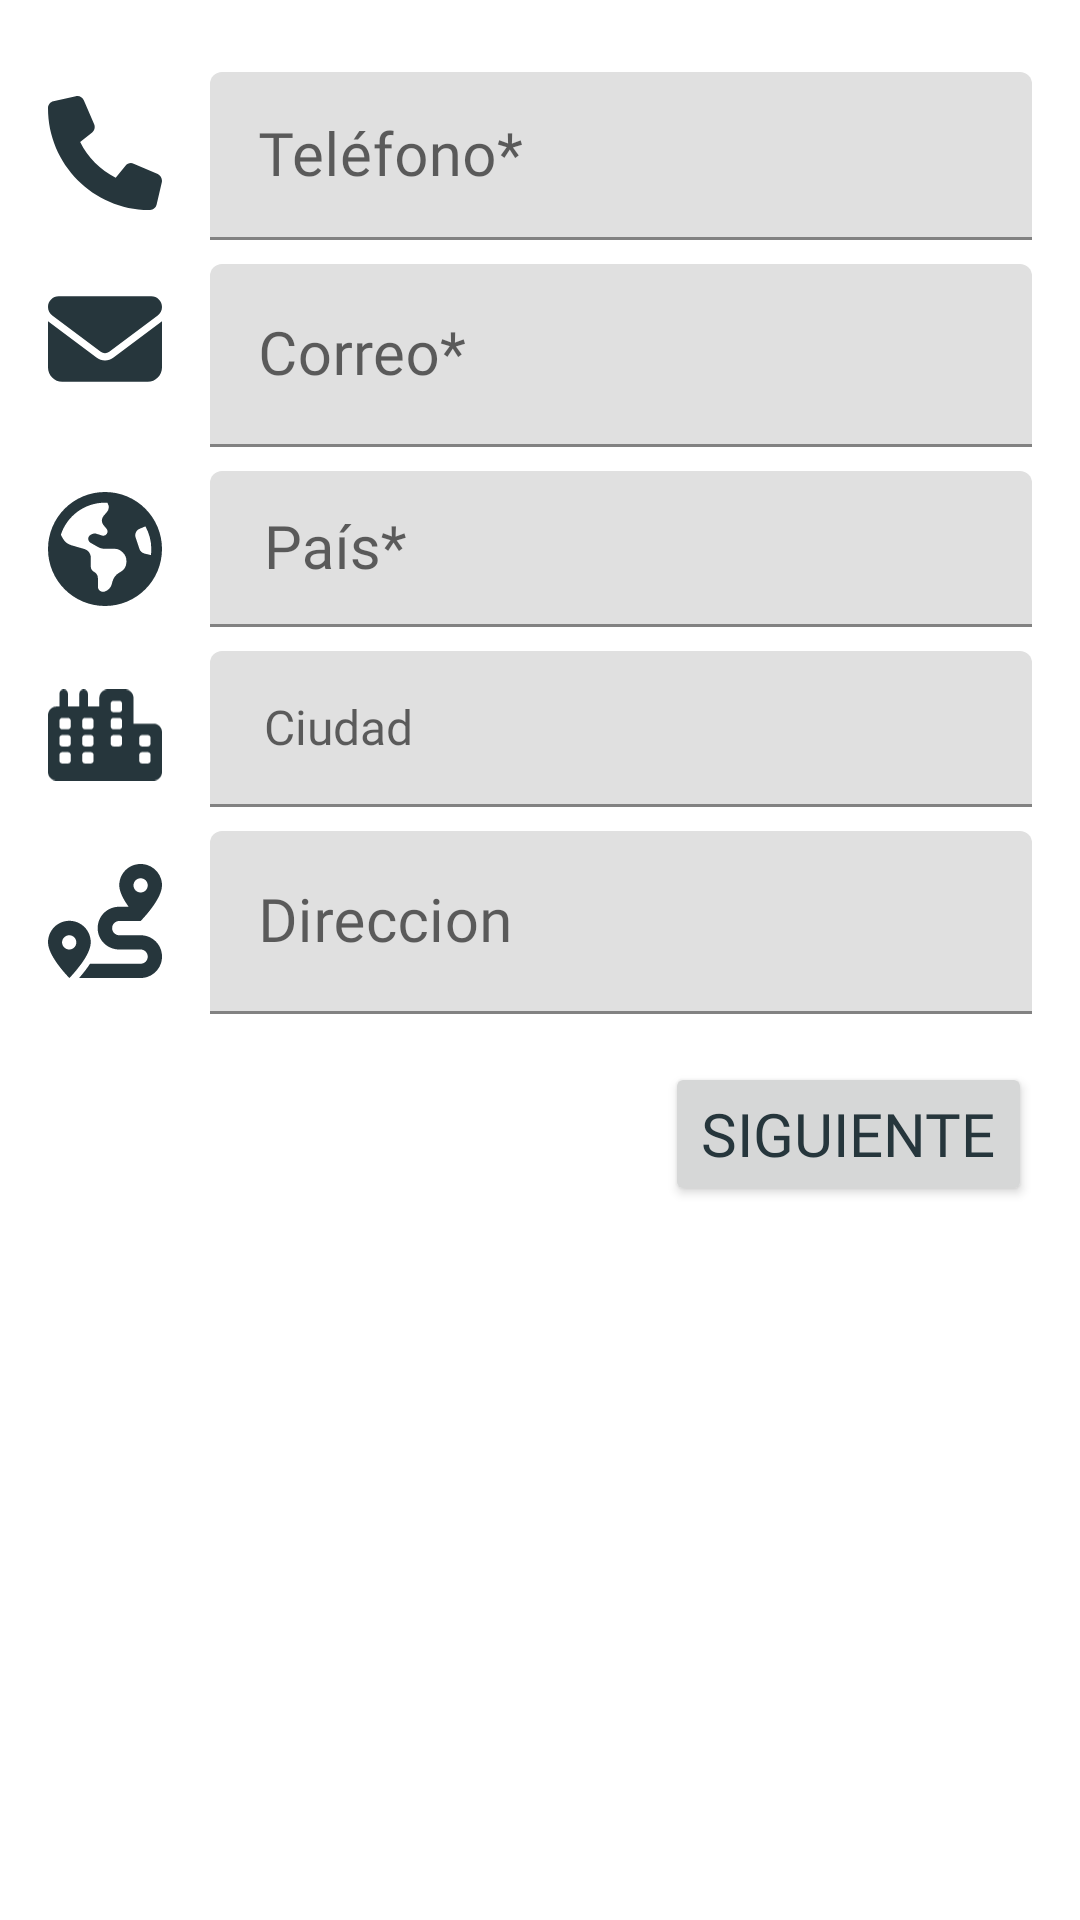

Locate icon controls on the screen. Image size 1080x1920, boxes as (x1, y1, x2, y2).
city: (48, 689, 162, 781)
earth americas: (48, 492, 162, 606)
envelope: (48, 296, 162, 382)
phone: (48, 96, 162, 210)
route: (48, 864, 162, 978)
